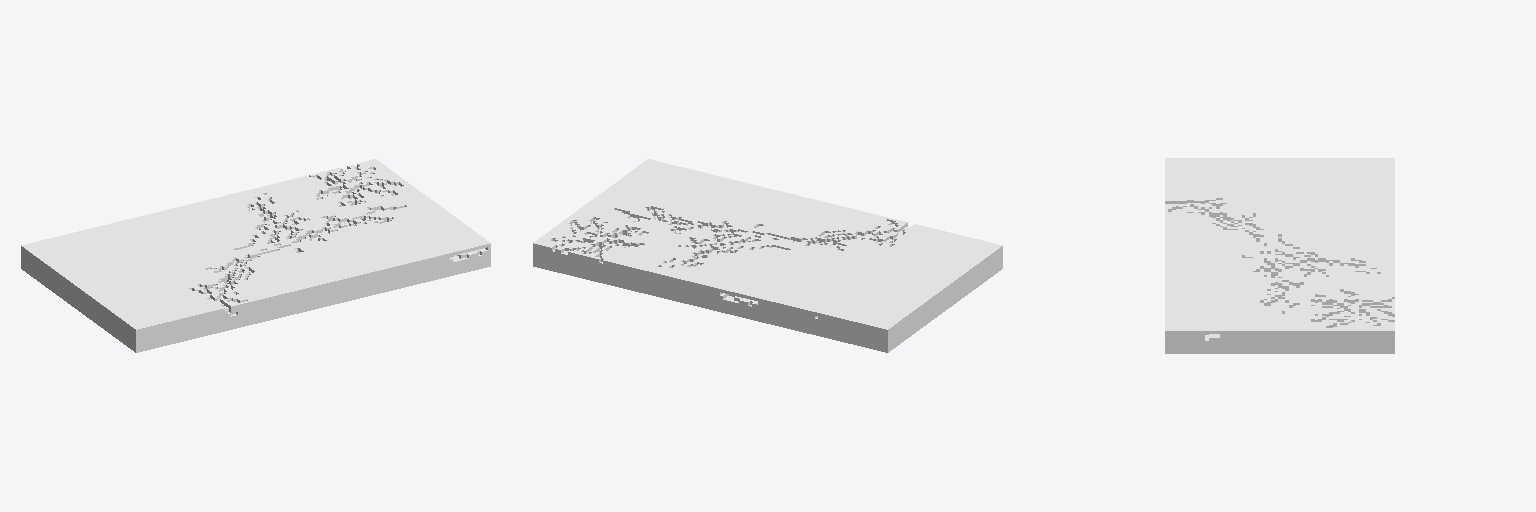
File: big_floors_6.obj
The picture shows the model from 3 angles: view 1: azimuth 30°, elevation 25°; view 2: azimuth 150°, elevation 25°; view 3: azimuth 270°, elevation 25°; orthographic projection.
Bounding box in the file's own units: 112 × 7 × 63.